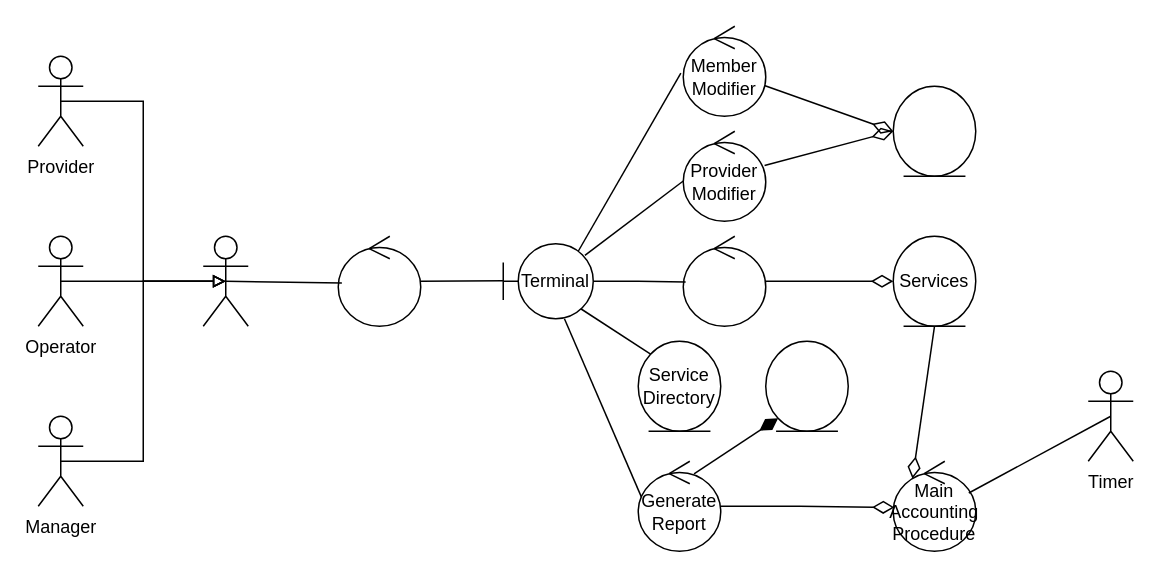
Image size: 1160x578. Some labels were removed from this diagram. Here are the shapes that lost their labels. From the top down, the centre of each, then its label:
At point (934, 130): "User Database".
At point (225, 280): "User".
At point (379, 280): "Verify User".
At point (724, 280): "Add Service".
At point (806, 385): "Reports".
